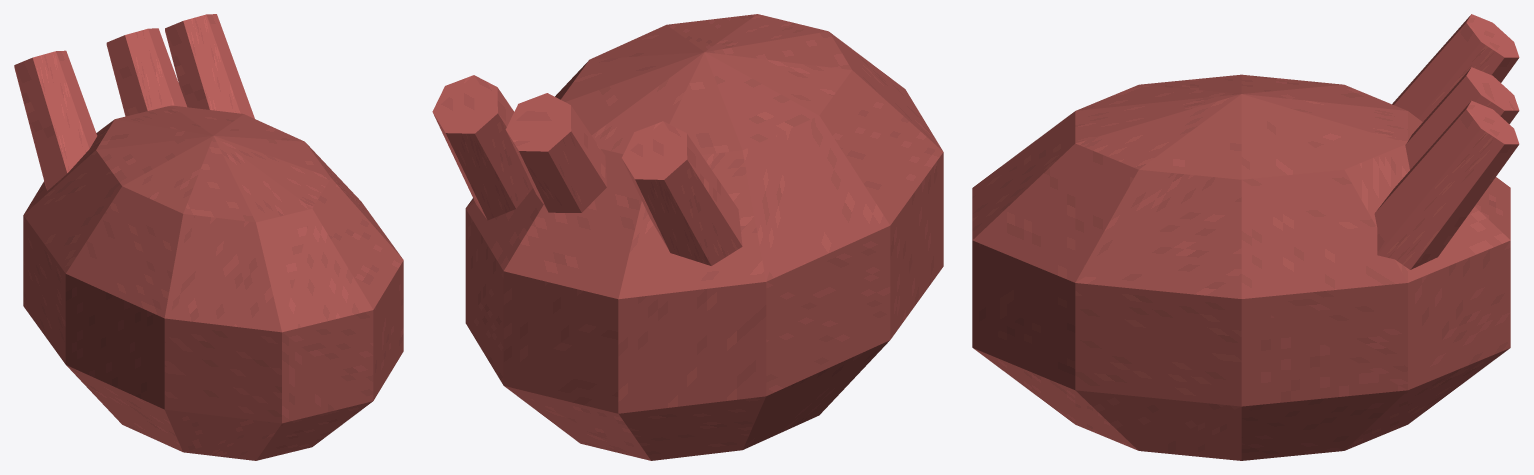
The model's file is mutant_heart.glb.
The picture shows the model from 3 angles, left to right: view 1: azimuth 30°, elevation 25°; view 2: azimuth 150°, elevation 25°; view 3: azimuth 270°, elevation 25°; orthographic projection. The views are drawn at different scales.
Visible parts, largest first — view 1: block_muscular body, block_vessel (×3); view 2: block_muscular body, block_vessel (×3); view 3: block_muscular body, block_vessel (×3).
Boxes of the visible parts, bbox=[...] form: block_muscular body: bbox=[23, 105, 403, 460]; block_vessel (×3): bbox=[14, 14, 254, 190]; block_muscular body: bbox=[465, 14, 943, 460]; block_vessel (×3): bbox=[432, 75, 742, 265]; block_muscular body: bbox=[972, 74, 1510, 460]; block_vessel (×3): bbox=[1374, 14, 1519, 269].
Size of the model in its own units: 0.0491 by 0.0515 by 0.0667.
Materials: 1 (1 with a texture image).
